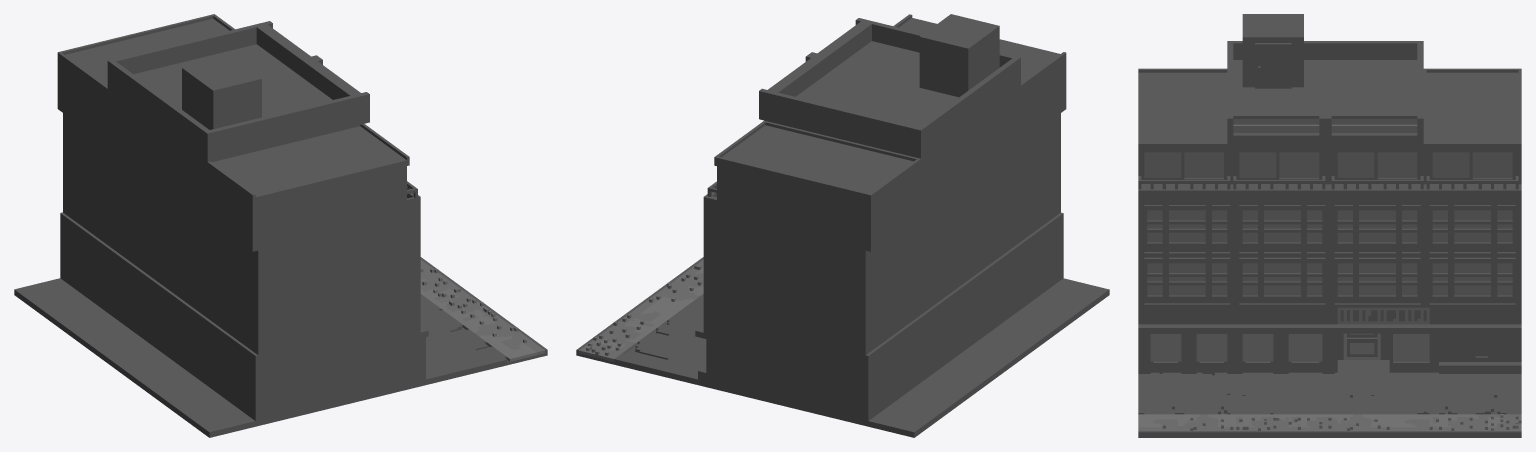
Rendered from kfarr_bases_valencia_store-8-11-13.obj.
3 renders of one model, left to right at view 1: azimuth 30°, elevation 25°; view 2: azimuth 150°, elevation 25°; view 3: azimuth 270°, elevation 25°, orthographic.
Bounding box in the file's own units: 125 × 104 × 125.
